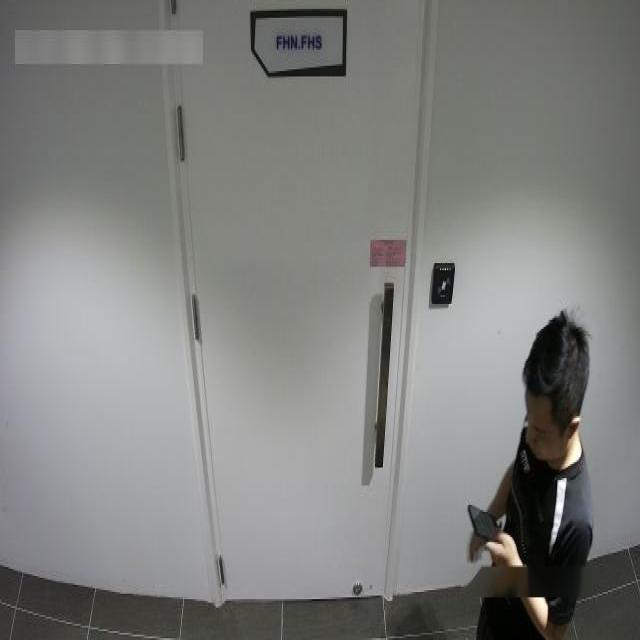bare_hand: (484, 524, 534, 597)
